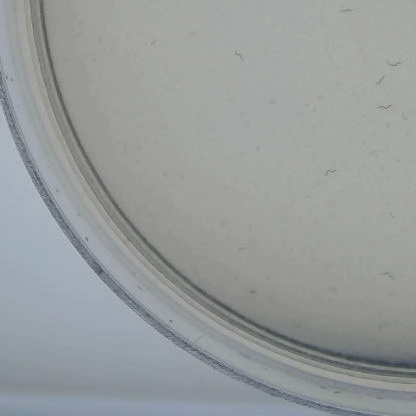worm: (216, 44, 247, 76), (219, 242, 248, 262), (358, 73, 394, 89), (320, 160, 341, 187), (375, 95, 405, 112), (381, 265, 406, 285), (332, 4, 360, 21), (383, 50, 409, 65), (141, 38, 161, 52)
